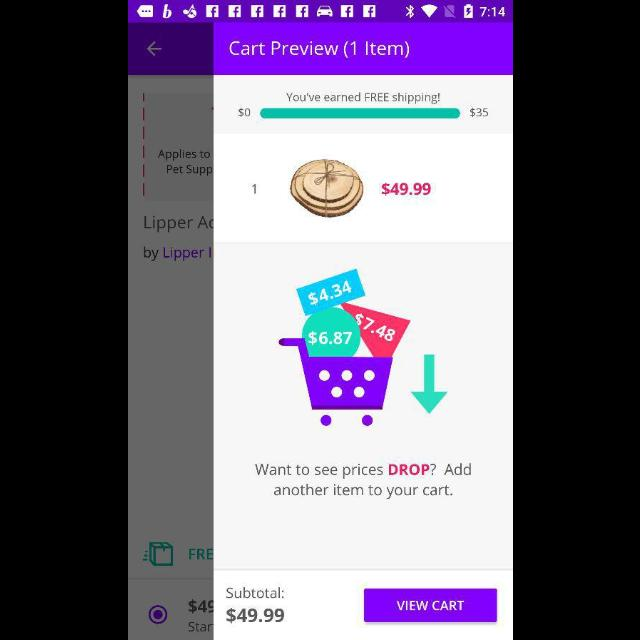image: (278, 269, 448, 426), (289, 160, 363, 218)
panel: (214, 24, 512, 640)
text: (254, 462, 471, 500), (228, 40, 410, 60), (285, 92, 439, 106), (226, 608, 284, 624), (226, 586, 284, 600), (381, 183, 431, 197), (468, 109, 488, 118), (238, 108, 250, 118), (252, 184, 256, 196)
textbutton: (364, 588, 496, 622)
uppertaskbar: (128, 1, 512, 23)
